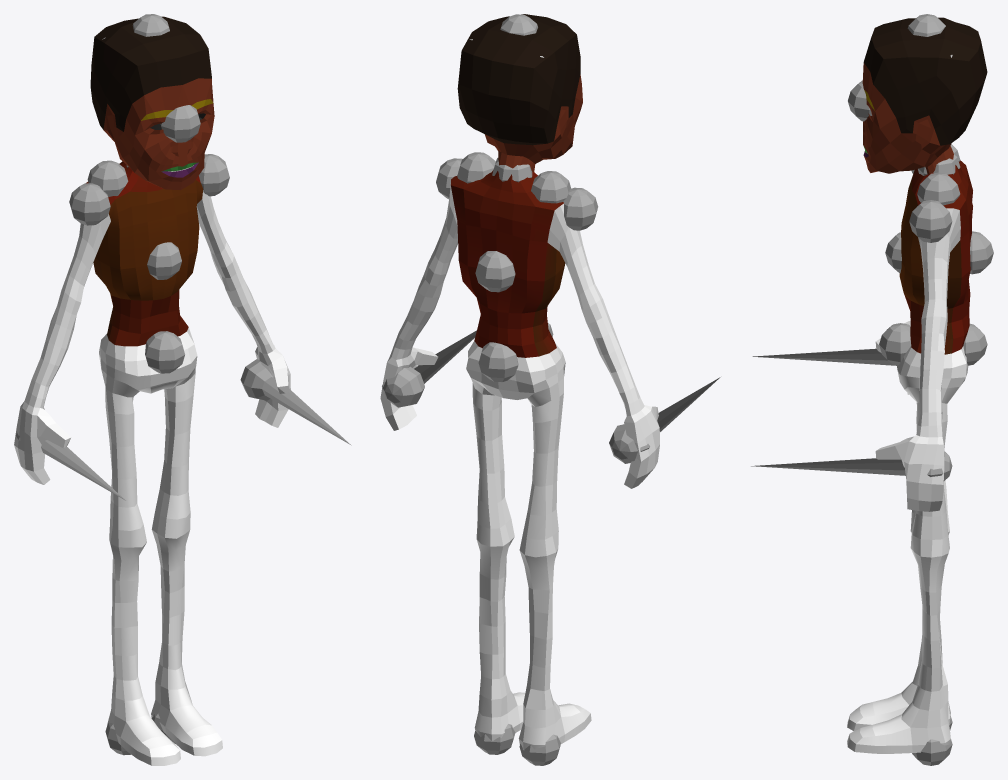
File: LC_Skelly_Cage.fbx
3 renders of one model, left to right at view 1: azimuth 30°, elevation 25°; view 2: azimuth 150°, elevation 25°; view 3: azimuth 270°, elevation 25°, orthographic.
Parts seen in each view (by area): view 1: Head_OuterCage, UpperTorso_OuterCage, RightUpperLeg_OuterCage, LeftUpperLeg_OuterCage, RightLowerLeg_OuterCage, LeftLowerLeg_OuterCage, LowerTorso_OuterCage, LeftFoot_OuterCage, RightFoot_OuterCage, RightHand_OuterCage, RightLowerArm_OuterCage, RightUpperArm_OuterCage (+12 smaller); view 2: Head_OuterCage, UpperTorso_OuterCage, RightUpperLeg_OuterCage, LeftUpperLeg_OuterCage, LeftLowerLeg_OuterCage, RightLowerLeg_OuterCage, LowerTorso_OuterCage, RightUpperArm_OuterCage, RightFoot_OuterCage, RightLowerArm_OuterCage, RightHand_OuterCage, LeftGrip_Att (+14 smaller); view 3: Head_OuterCage, UpperTorso_OuterCage, LeftLowerLeg_OuterCage, LeftFoot_OuterCage, LeftHand_OuterCage, LeftUpperArm_OuterCage, LeftLowerArm_OuterCage, LeftUpperLeg_OuterCage, LeftGrip_Att, LowerTorso_OuterCage, RightFoot_OuterCage, LeftShoulder_Att (+9 smaller).
Boxes of the visible parts, x1,y1,x2,y2 form: Head_OuterCage: (90, 16, 214, 190); UpperTorso_OuterCage: (86, 161, 203, 346); RightUpperLeg_OuterCage: (101, 369, 146, 547); LeftUpperLeg_OuterCage: (152, 367, 195, 538); RightLowerLeg_OuterCage: (110, 542, 146, 700); LeftLowerLeg_OuterCage: (152, 530, 189, 689); LowerTorso_OuterCage: (99, 327, 197, 393); LeftFoot_OuterCage: (151, 682, 222, 756); RightFoot_OuterCage: (107, 693, 180, 765); RightHand_OuterCage: (14, 401, 71, 484); RightLowerArm_OuterCage: (24, 306, 76, 408); RightUpperArm_OuterCage: (57, 214, 110, 315); Head_OuterCage: (457, 14, 582, 171); UpperTorso_OuterCage: (451, 170, 565, 357); RightUpperLeg_OuterCage: (519, 378, 563, 557); LeftUpperLeg_OuterCage: (471, 378, 514, 546); LeftLowerLeg_OuterCage: (476, 537, 514, 699); RightLowerLeg_OuterCage: (519, 549, 557, 709); LowerTorso_OuterCage: (466, 341, 565, 399); RightUpperArm_OuterCage: (547, 203, 607, 323); RightFoot_OuterCage: (518, 700, 591, 750); RightLowerArm_OuterCage: (586, 313, 644, 416); RightHand_OuterCage: (624, 405, 659, 488); LeftGrip_Att: (382, 330, 476, 407); Head_OuterCage: (862, 17, 987, 174); UpperTorso_OuterCage: (899, 160, 972, 354); LeftLowerLeg_OuterCage: (911, 549, 948, 710); LeftFoot_OuterCage: (847, 701, 950, 753); LeftHand_OuterCage: (875, 435, 944, 511); LeftUpperArm_OuterCage: (918, 208, 960, 334); LeftLowerArm_OuterCage: (916, 332, 946, 437); LeftUpperLeg_OuterCage: (905, 387, 959, 557); LeftGrip_Att: (751, 451, 952, 481); LowerTorso_OuterCage: (897, 346, 968, 389); RightFoot_OuterCage: (847, 682, 950, 730); LeftShoulder_Att: (909, 200, 952, 242).
Size of the model in its own units: 2.3 by 6.14 by 1.84.
